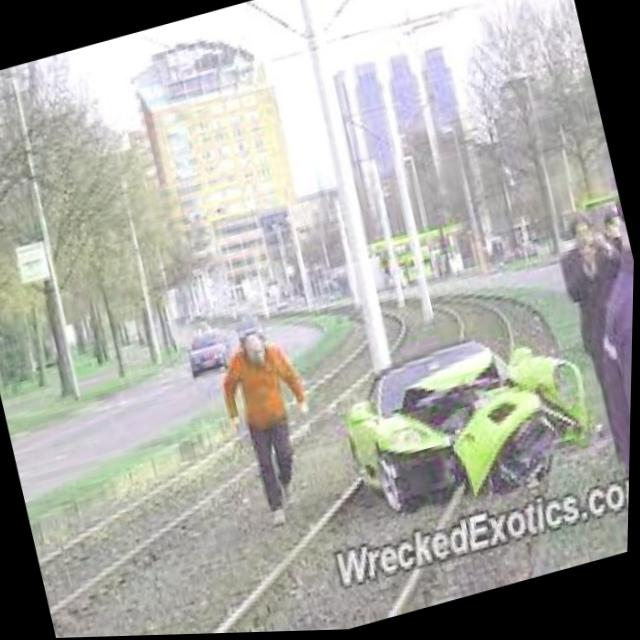Car-Damage: (375, 328, 605, 516)
